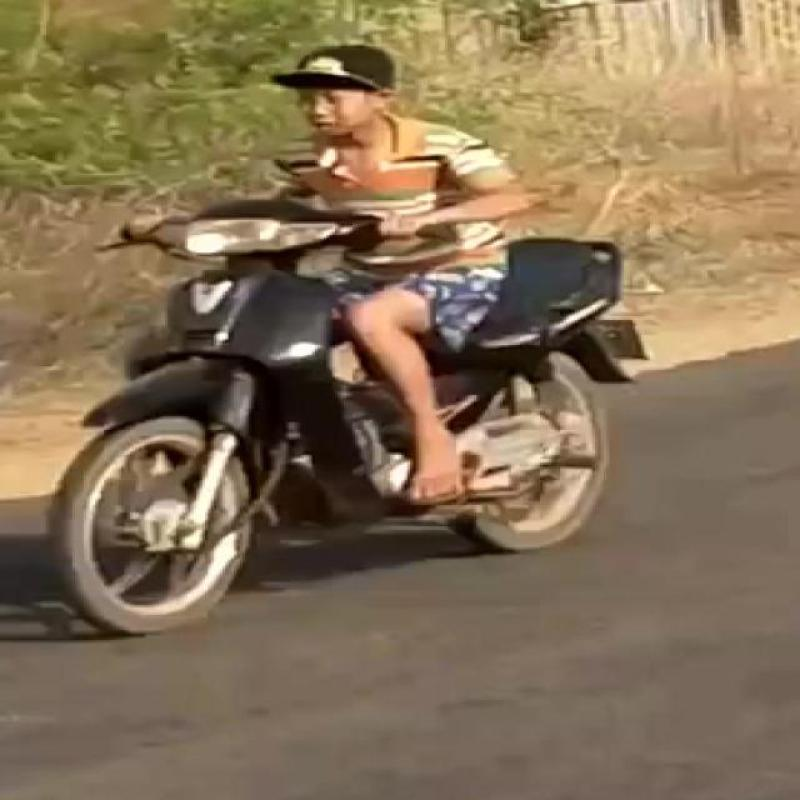nohelmet: (266, 18, 434, 156)
